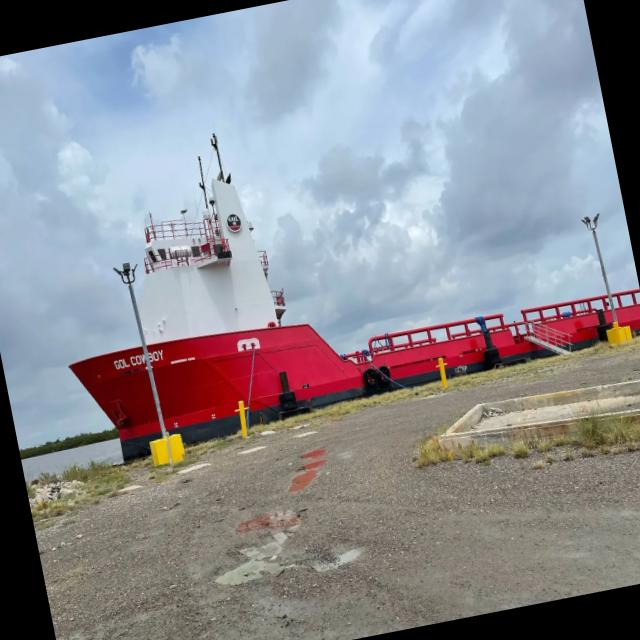Offshore: (141, 180, 606, 443), (70, 346, 160, 459)
